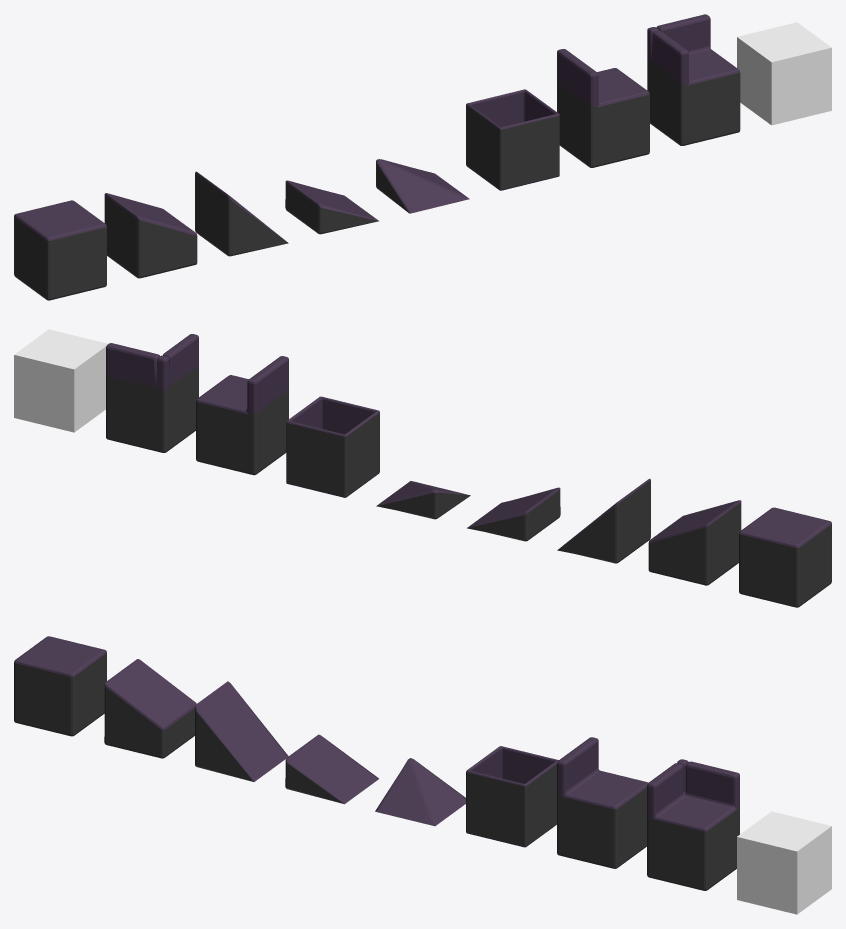
Rendered from blocksv_1.gltf.
3 views of the same model, one above another, from view 1: azimuth 30°, elevation 25°; view 2: azimuth 150°, elevation 25°; view 3: azimuth 330°, elevation 25° (orthographic).
Parts seen in each view (by area): view 1: lvl_wallcornerblock, lvl_wallblock, Cube, lvl_hollowblock, lvl_genblock, lvl_rampshallow, lvl_rampsteep, lvl_rampcorner, lvl_ramphalf; view 2: lvl_wallcornerblock, lvl_wallblock, Cube, lvl_hollowblock, lvl_genblock, lvl_rampshallow, lvl_rampsteep, lvl_ramphalf, lvl_rampcorner; view 3: lvl_wallcornerblock, lvl_wallblock, Cube, lvl_hollowblock, lvl_genblock, lvl_rampshallow, lvl_rampsteep, lvl_ramphalf, lvl_rampcorner.
Boxes of the visible parts, left/top/right/bottom form: lvl_wallcornerblock: left=647, top=14, right=740, bottom=145; lvl_wallblock: left=557, top=49, right=649, bottom=167; Cube: left=737, top=22, right=831, bottom=125; lvl_hollowblock: left=466, top=89, right=559, bottom=190; lvl_genblock: left=14, top=200, right=106, bottom=300; lvl_rampshallow: left=104, top=193, right=197, bottom=278; lvl_rampsteep: left=195, top=171, right=288, bottom=256; lvl_rampcorner: left=376, top=159, right=469, bottom=213; lvl_ramphalf: left=285, top=180, right=378, bottom=234; lvl_wallcornerblock: left=106, top=334, right=198, bottom=452; lvl_wallblock: left=196, top=356, right=288, bottom=475; Cube: left=14, top=329, right=107, bottom=432; lvl_hollowblock: left=286, top=396, right=379, bottom=497; lvl_genblock: left=739, top=507, right=831, bottom=607; lvl_rampshallow: left=648, top=500, right=741, bottom=585; lvl_rampsteep: left=557, top=478, right=650, bottom=563; lvl_ramphalf: left=467, top=487, right=560, bottom=541; lvl_rampcorner: left=376, top=481, right=470, bottom=519; lvl_wallcornerblock: left=647, top=759, right=739, bottom=890; lvl_wallblock: left=557, top=737, right=648, bottom=868; Cube: left=737, top=811, right=831, bottom=914; lvl_hollowblock: left=466, top=746, right=558, bottom=847; lvl_genblock: left=14, top=636, right=106, bottom=736; lvl_rampshallow: left=104, top=659, right=196, bottom=758; lvl_rampsteep: left=195, top=681, right=288, bottom=781; lvl_ramphalf: left=285, top=734, right=378, bottom=804; lvl_rampcorner: left=375, top=758, right=465, bottom=826.
Bounding box in the file's own units: 26 × 3 × 2.01.
